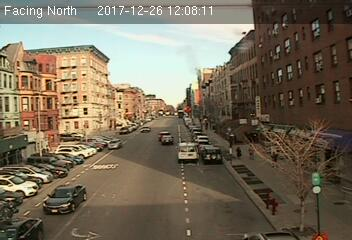car: (43, 183, 87, 214), (203, 146, 221, 163), (106, 139, 121, 150), (161, 136, 173, 145)
pedestrian: (235, 144, 243, 162)
truck: (176, 143, 198, 162)
